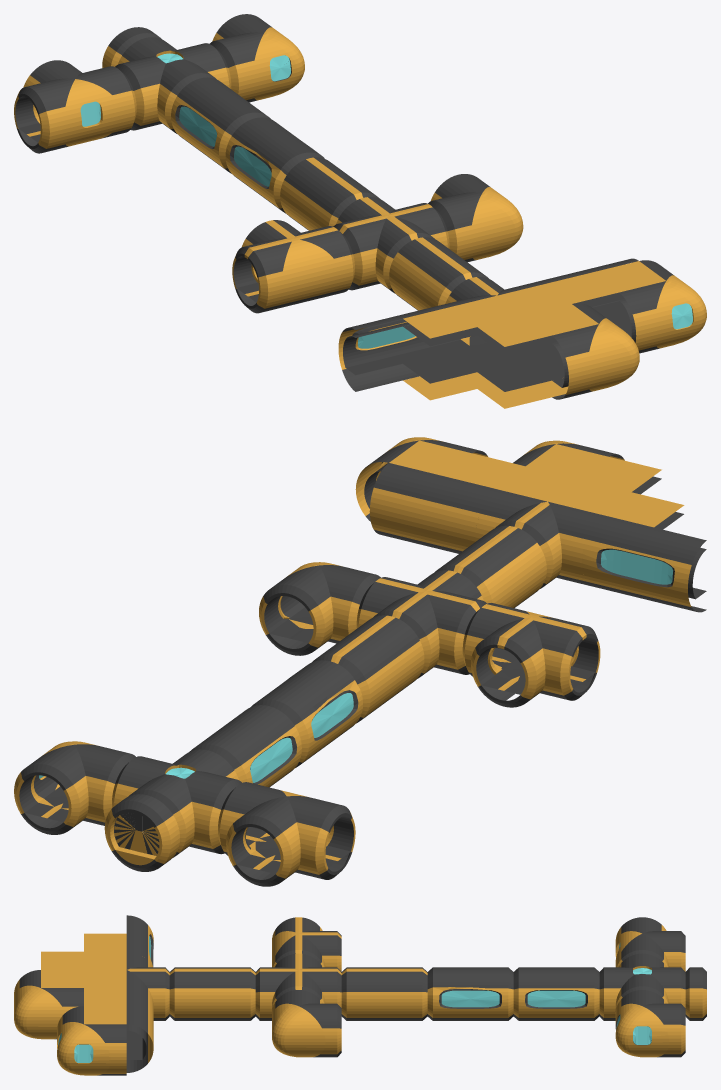
The model's file is AquaStationParts.fbx.
3 views of the same model, one above another, from view 1: azimuth 30°, elevation 25°; view 2: azimuth 150°, elevation 25°; view 3: azimuth 270°, elevation 25° (orthographic). The views are drawn at different scales.
Visible parts, largest first — view 1: AquaStation T WithWindows, AquaStation T WithoutWindows, AquaStation X WithWindows, AquaStation X WithoutWindows, Ceiling_2x2, AquaStation |_ WithoutWindows, AquaStation |_ WithWindows, LargeRoomPart I WithWindows, LargeRoomPart |_ WithoutWindows, Floor_2x2, LargeRoomPart |_ WithWindows, AquaStation I WithWindows (+9 smaller); view 2: AquaStation T WithWindows, AquaStation T WithoutWindows, LargeRoomPart I WithWindows, LargeRoomPart I WithoutWindows, AquaStation |_ WithWindows, AquaStation |_ WithoutWindows, AquaStation X WithoutWindows, AquaStation X WithWindows, Ceiling_2x2, AquaStation I WithoutWindows, AquaStation I WithWindows, LargeRoomPart_Exit (+7 smaller); view 3: AquaStation I_I WithoutWindows, AquaStation I WithoutWindows, AquaStation I WithWindows, AquaStation I_| WithWindows, AquaStation |_ WithWindows, AquaStation |_ WithoutWindows, LargeRoomPart |_ WithWindows, AquaStation X WithoutWindows, AquaStation X WithWindows, Ceiling_2x2, LargeRoomPart |_ WithoutWindows, AquaStation T WithWindows (+7 smaller).
Boxes of the visible parts, x1=… form: AquaStation T WithWindows: x1=14, y1=60, x2=136, y2=153; AquaStation T WithoutWindows: x1=232, y1=220, x2=354, y2=313; AquaStation X WithWindows: x1=115, y1=37, x2=231, y2=133; AquaStation X WithoutWindows: x1=333, y1=197, x2=449, y2=293; Ceiling_2x2: x1=450, y1=284, x2=598, y2=354; AquaStation |_ WithoutWindows: x1=428, y1=174, x2=523, y2=262; AquaStation |_ WithWindows: x1=209, y1=14, x2=304, y2=102; LargeRoomPart I WithWindows: x1=338, y1=304, x2=449, y2=391; LargeRoomPart |_ WithoutWindows: x1=552, y1=303, x2=639, y2=399; Floor_2x2: x1=450, y1=343, x2=568, y2=408; LargeRoomPart |_ WithWindows: x1=619, y1=260, x2=706, y2=353; AquaStation I WithWindows: x1=225, y1=117, x2=324, y2=213; AquaStation T WithWindows: x1=218, y1=782, x2=355, y2=886; AquaStation T WithoutWindows: x1=462, y1=603, x2=600, y2=707; LargeRoomPart I WithWindows: x1=582, y1=514, x2=706, y2=612; LargeRoomPart I WithoutWindows: x1=369, y1=463, x2=494, y2=553; AquaStation |_ WithWindows: x1=14, y1=741, x2=135, y2=834; AquaStation |_ WithoutWindows: x1=259, y1=562, x2=380, y2=655; AquaStation X WithoutWindows: x1=356, y1=570, x2=486, y2=678; AquaStation X WithWindows: x1=112, y1=749, x2=241, y2=857; Ceiling_2x2: x1=495, y1=444, x2=661, y2=514; AquaStation I WithoutWindows: x1=312, y1=615, x2=424, y2=723; AquaStation I WithWindows: x1=250, y1=660, x2=362, y2=767; LargeRoomPart_Exit: x1=476, y1=489, x2=600, y2=588; AquaStation I_I WithoutWindows: x1=169, y1=967, x2=255, y2=1020; AquaStation I WithoutWindows: x1=341, y1=967, x2=427, y2=1020; AquaStation I WithWindows: x1=427, y1=967, x2=513, y2=1020; AquaStation I_| WithWindows: x1=513, y1=967, x2=599, y2=1020; AquaStation |_ WithWindows: x1=615, y1=990, x2=685, y2=1057; AquaStation |_ WithoutWindows: x1=272, y1=990, x2=341, y2=1057; LargeRoomPart |_ WithWindows: x1=57, y1=1006, x2=126, y2=1075; AquaStation X WithoutWindows: x1=255, y1=953, x2=341, y2=1020; AquaStation X WithWindows: x1=599, y1=953, x2=685, y2=1020; Ceiling_2x2: x1=41, y1=951, x2=126, y2=987; LargeRoomPart |_ WithoutWindows: x1=14, y1=970, x2=83, y2=1039; AquaStation T WithWindows: x1=615, y1=917, x2=685, y2=971.
Size of the model in its own units: 1325 by 250 by 3225.
